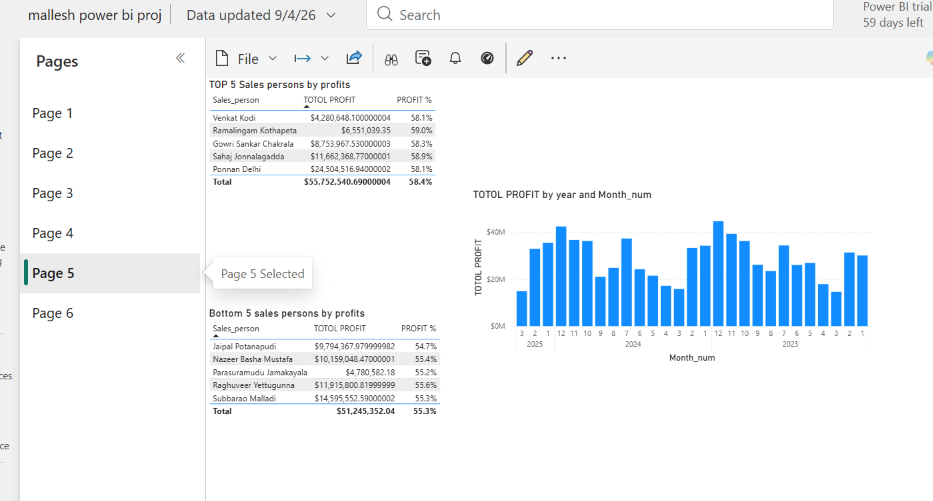

The dashboard page shown, as its layout file describes it:
{"tool":"powerbi","page":{"name":"Page 5","canvas":[1280,720],"ordinal":4},"visuals":[{"type":"tableEx","title":"TOP 5 Sales persons  by profits","fields":{"Values":["people.Sales_person","shipments.TOTOL PROFIT","shipments.PROFIT %"]},"box":[0,0,395.4,197.3],"z":0},{"type":"clusteredColumnChart","fields":{"Category":["calendar.year","calendar.Month_num"],"Y":["shipments.TOTOL PROFIT"]},"box":[430,178.8,661.2,288.8],"z":1000},{"type":"tableEx","title":"Bottom 5 sales persons by profits","fields":{"Values":["people.Sales_person","shipments.TOTOL PROFIT","shipments.PROFIT %"]},"box":[0,372.5,446.2,292.5],"z":2000}]}

Visuals, with their boxes on the page's 1280x720 design canvas (x1, y1, x2, y2). These are canvas units, not pixel positions in the 933x501 screenshot, which may show the page scaled, cropped or inside an application window:
"TOP 5 Sales persons  by profits" tableEx: box(0, 0, 395, 197)
clusteredColumnChart - calendar.year x calendar.Month_num: box(430, 179, 1091, 468)
"Bottom 5 sales persons by profits" tableEx: box(0, 372, 446, 665)
